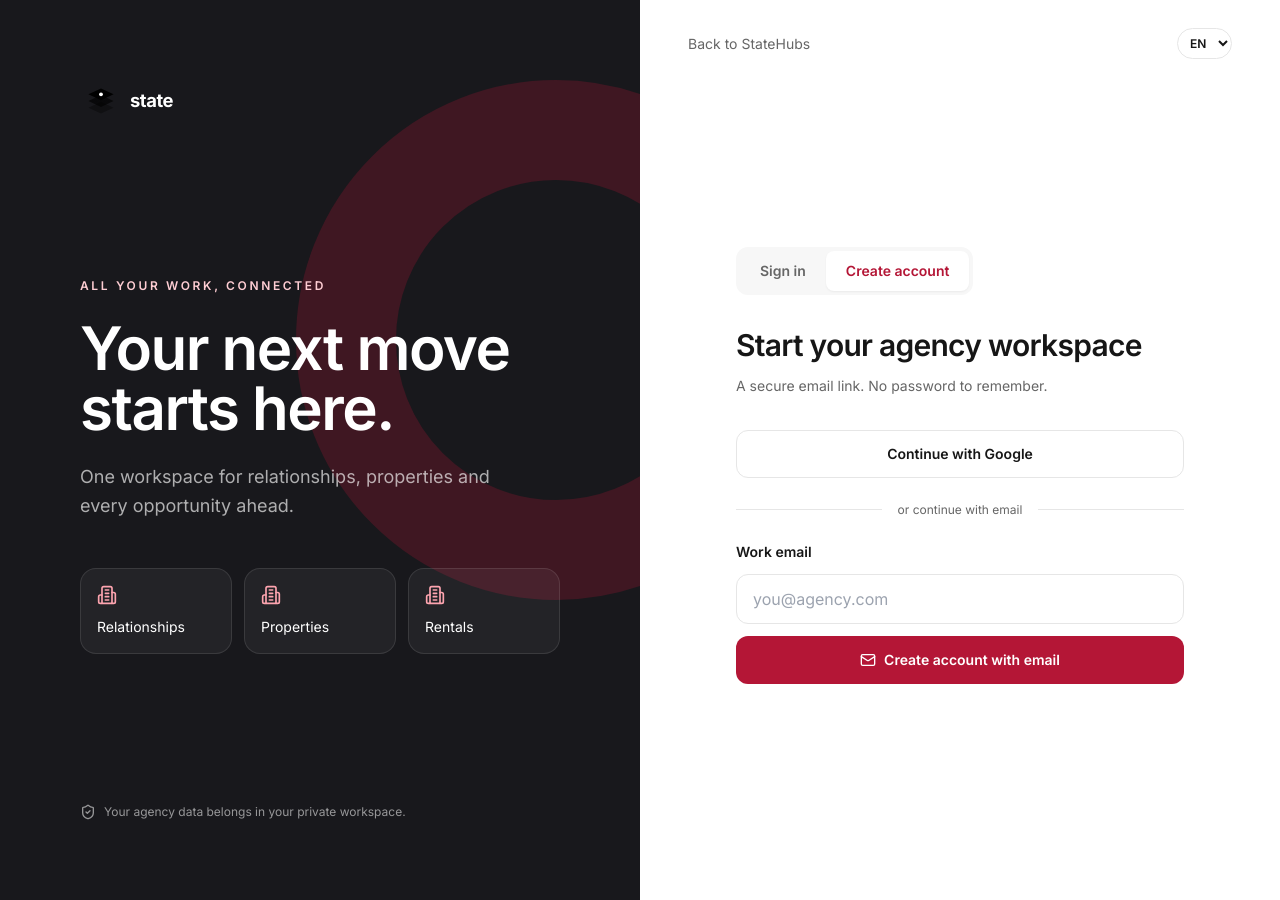
Test: account access › creates users only through the registration flow
Type "owner@example.com" into the field labelled "Work email". click: (960, 599)
box: [736,574,1184,624]
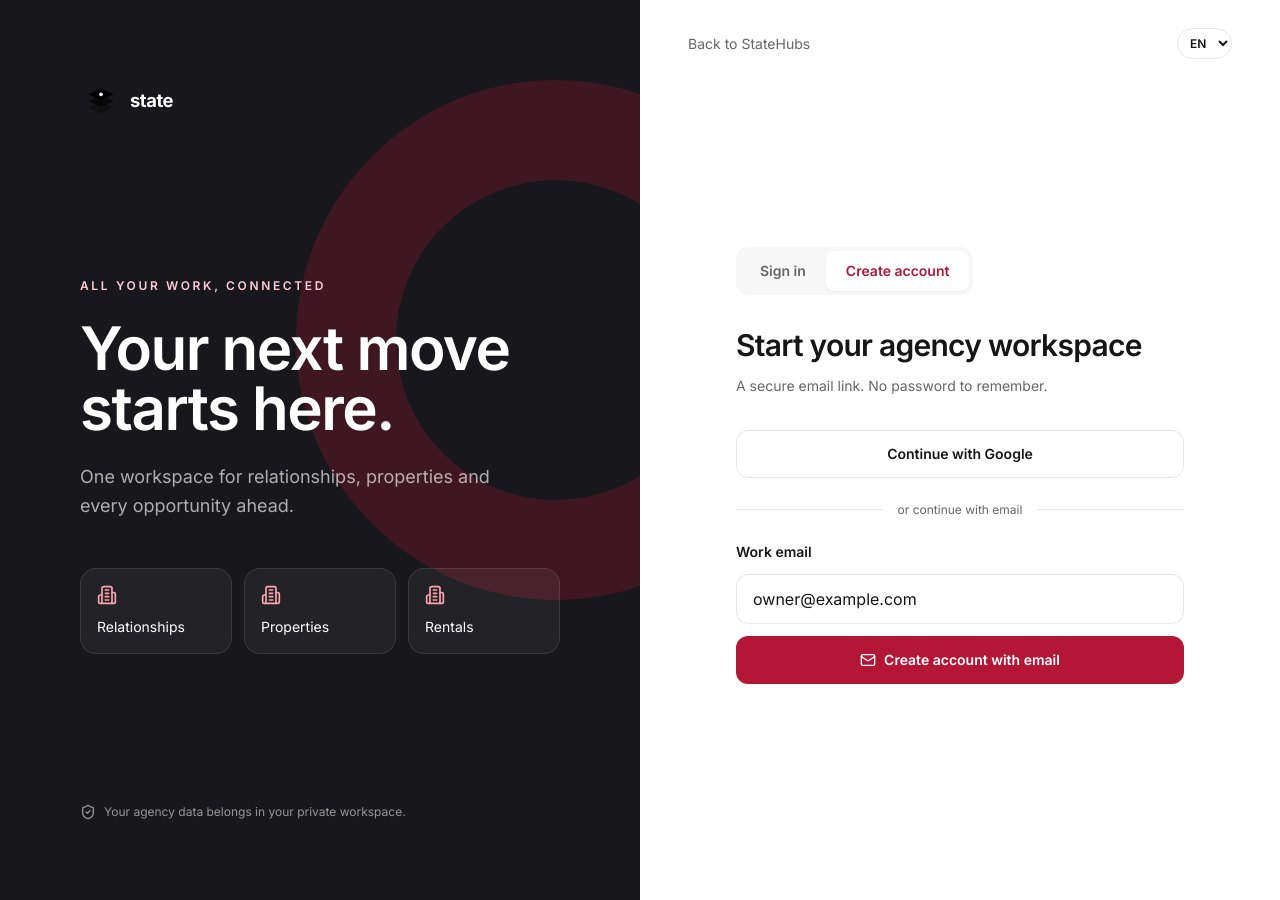
Submit the form labelled "Work email", box [736,542,1184,684]
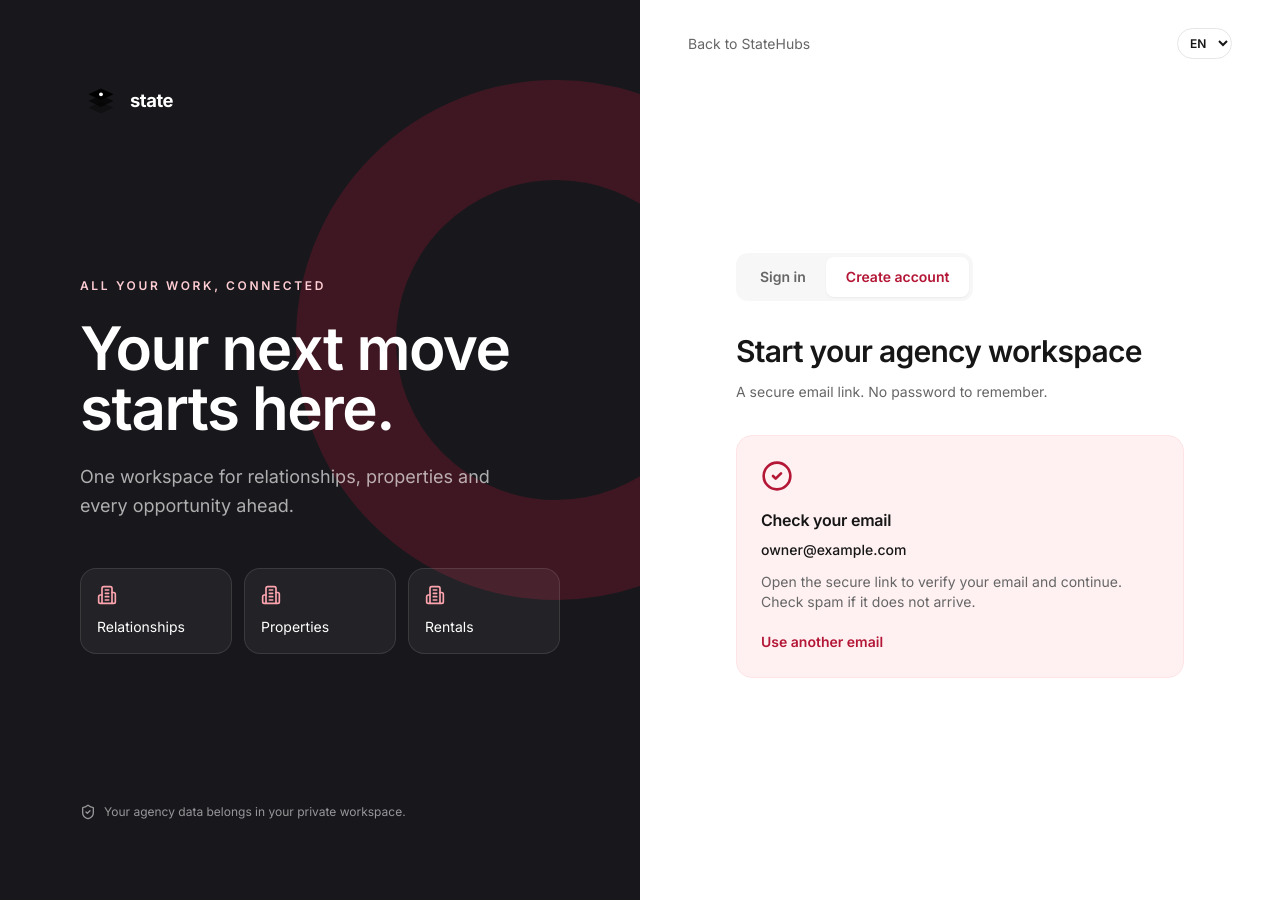
Result: the message shows "owner@example.com" at [761,541,906,558]
